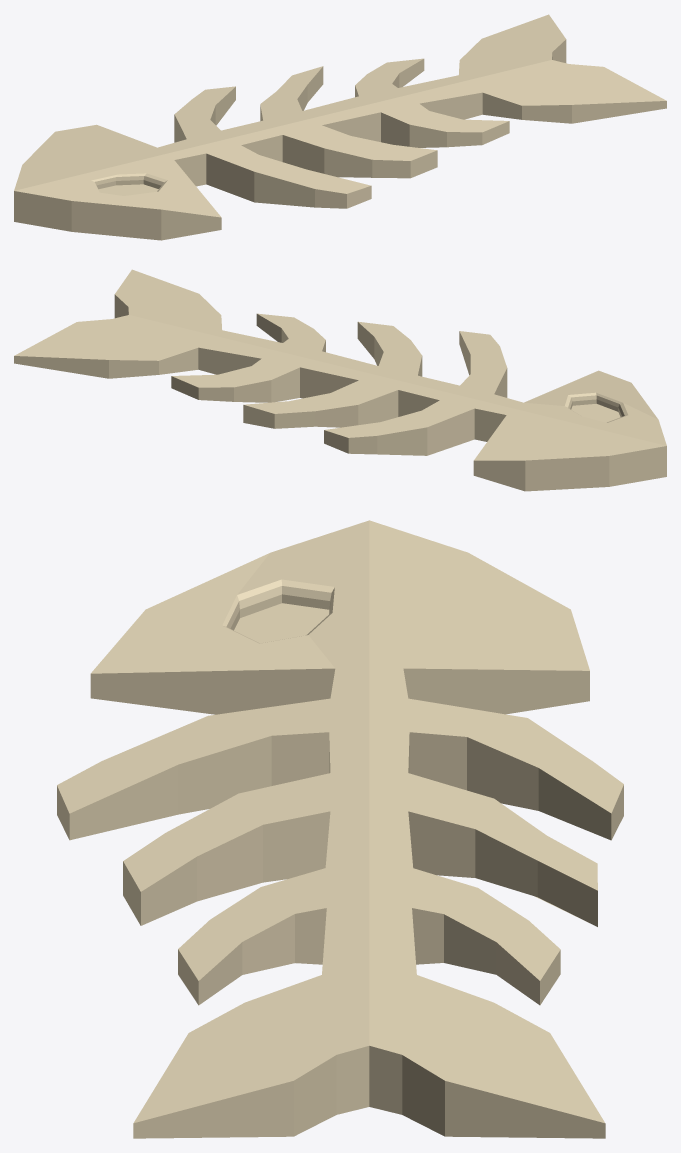
File: fish.fbx
3 views of the same model, one above another, from view 1: azimuth 30°, elevation 25°; view 2: azimuth 150°, elevation 25°; view 3: azimuth 270°, elevation 25° (orthographic). The views are drawn at different scales.
Parts seen in each view (by area): view 1: fish; view 2: fish; view 3: fish.
Boxes of the visible parts, x1,y1,x2,y2 form: fish: (14, 14, 666, 240); fish: (14, 269, 666, 491); fish: (57, 520, 623, 1138).
Bounding box in the file's own units: 106 × 5.33 × 43.92.
